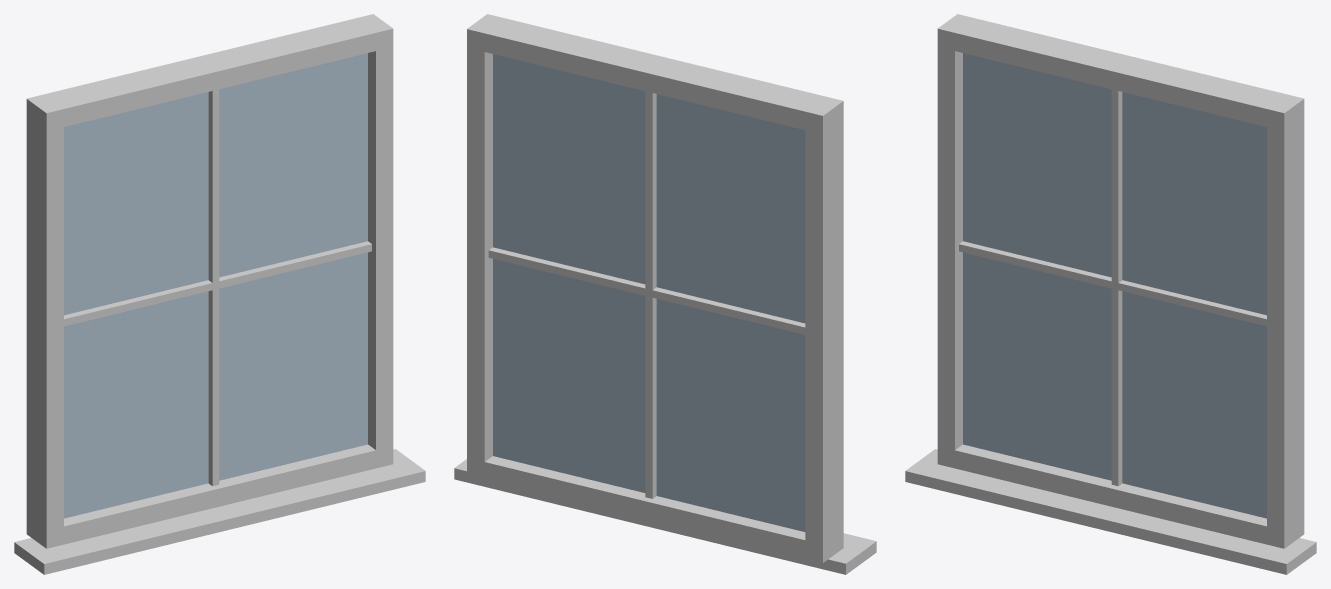
The model's file is window_frame_v1.glb.
3 views of the same model, side by side, from view 1: azimuth 30°, elevation 25°; view 2: azimuth 150°, elevation 25°; view 3: azimuth 330°, elevation 25° (orthographic). The views are drawn at different scales.
Visible parts, largest first — view 1: world; view 2: world; view 3: world.
Boxes of the visible parts, x1,y1,x2,y2 form: world: (14,14,425,574); world: (454,14,876,574); world: (905,14,1316,574).
Size of the model in its own units: 110 by 123 by 17.5.
